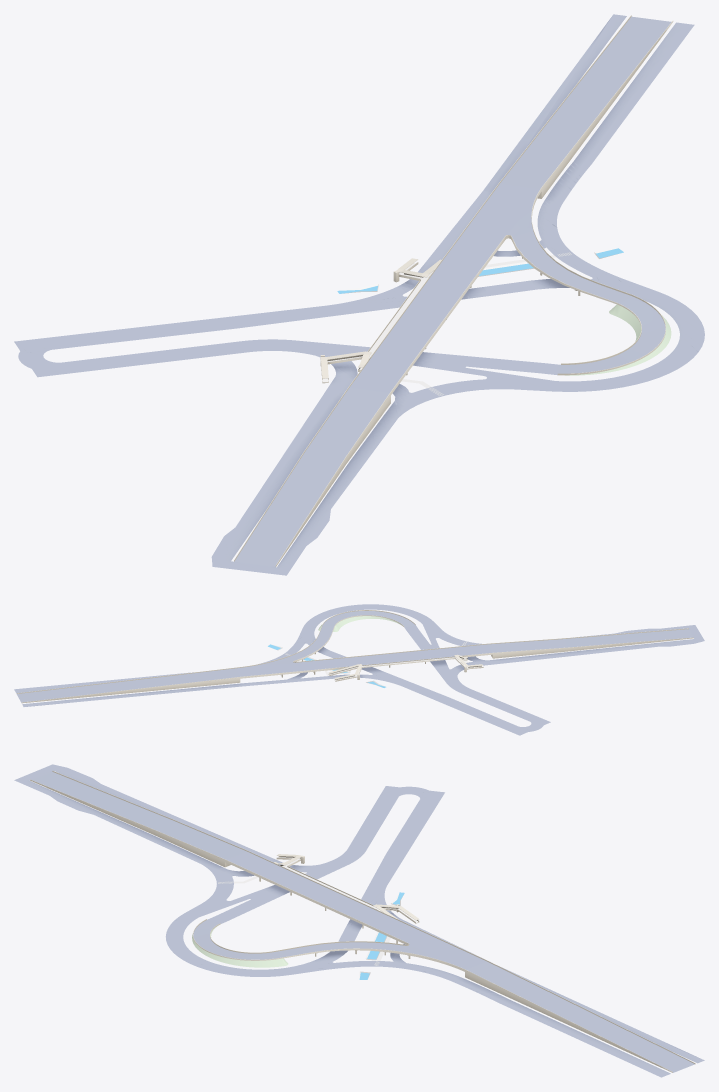
File: Riskulov-Kuldzhinsky-colored2.glb
3 views of the same model, one above another, from view 1: azimuth 30°, elevation 25°; view 2: azimuth 150°, elevation 25°; view 3: azimuth 270°, elevation 25° (orthographic). The views are drawn at different scales.
Visible parts, largest first — view 1: group_2, group_7.002, group_5, group_3; view 2: group_2, group_7.002, group_5, group_3; view 3: group_2, group_7.002, group_3, group_5.
Part boxes in pixels (box(x1,y1,x2,y2)): group_2: box(14, 14, 704, 575); group_7.002: box(234, 15, 673, 566); group_5: box(322, 248, 617, 388); group_3: box(565, 304, 671, 375); group_2: box(14, 604, 704, 735); group_7.002: box(16, 610, 693, 703); group_5: box(273, 645, 482, 686); group_3: box(318, 616, 402, 631); group_2: box(14, 764, 704, 1077); group_7.002: box(30, 770, 695, 1072); group_3: box(192, 925, 288, 967); group_5: box(233, 857, 418, 977).
Bounding box in the file's own units: 674 × 11 × 628.
Materials: 7 (3 with a texture image).
